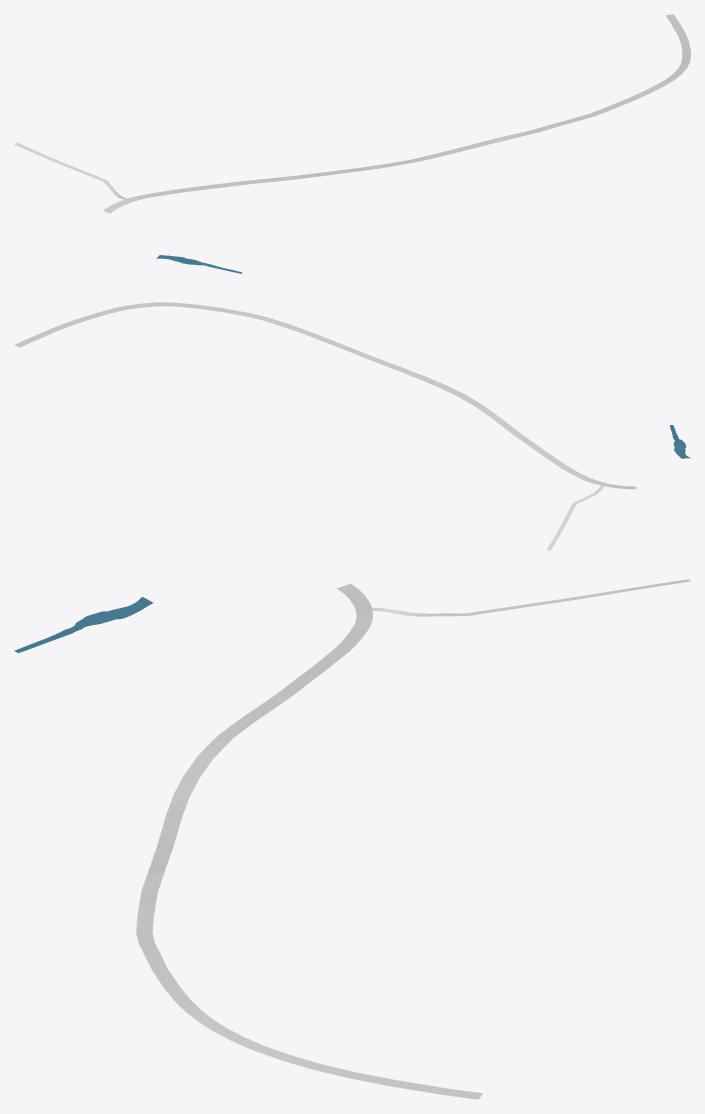
Rendered from objekty.glb.
3 views of the same model, one above another, from view 1: azimuth 30°, elevation 25°; view 2: azimuth 150°, elevation 25°; view 3: azimuth 270°, elevation 25° (orthographic). The views are drawn at different scales.
Parts seen in each view (by area): view 1: Cesty_03_10; view 2: Cesty_03_10; view 3: Cesty_03_10, Znacenie_03_10, Voda_03_10.
Boxes of the visible parts, bbox=[...] form: Cesty_03_10: bbox=[14, 14, 690, 213]; Cesty_03_10: bbox=[14, 302, 636, 550]; Cesty_03_10: bbox=[136, 579, 690, 1099]; Znacenie_03_10: bbox=[136, 584, 481, 1099]; Voda_03_10: bbox=[14, 597, 153, 652].
Size of the model in its own units: 484 by 32.66 by 245.
